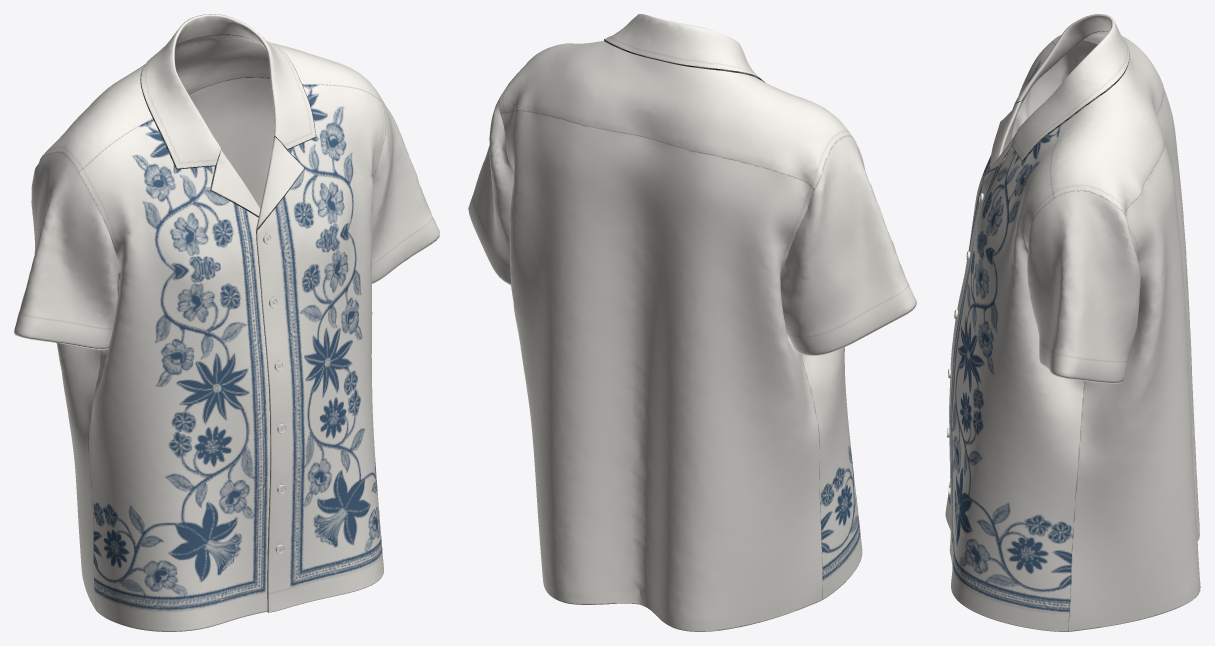
Rendered from 3d-half-sheeve-shirt-blue.glb.
The picture shows the model from 3 angles, left to right: view 1: azimuth 30°, elevation 25°; view 2: azimuth 150°, elevation 25°; view 3: azimuth 270°, elevation 25°; orthographic projection. The views are drawn at different scales.
Visible parts, largest first — view 1: SH DOBY STP FR, SH DOBY STP FR_1, SH DOBY STP SLV_1, SH DOBY STP BK, SH DOBY STP COL_1, SH DOBY STP YK, SH DOBY STP SLV, SH DOBY STP YK_1, SH DOBY STP FR_5, SH DOBY STP FR_4; view 2: SH DOBY STP BK, SH DOBY STP YK, SH DOBY STP SLV_1, SH DOBY STP FR, SH DOBY STP COL_1, SH DOBY STP SLV; view 3: SH DOBY STP FR_1, SH DOBY STP BK, SH DOBY STP SLV, SH DOBY STP YK, SH DOBY STP COL_1, SH DOBY STP SLV_1, SH DOBY STP FR, SH DOBY STP FR_4.
Boxes of the visible parts, left/top/right/bottom form: SH DOBY STP FR: left=79, top=119, right=270, bottom=631; SH DOBY STP FR_1: left=256, top=84, right=385, bottom=612; SH DOBY STP SLV_1: left=14, top=152, right=120, bottom=349; SH DOBY STP BK: left=56, top=77, right=274, bottom=610; SH DOBY STP COL_1: left=140, top=14, right=315, bottom=169; SH DOBY STP YK: left=40, top=43, right=381, bottom=171; SH DOBY STP SLV: left=371, top=92, right=439, bottom=283; SH DOBY STP YK_1: left=175, top=34, right=270, bottom=94; SH DOBY STP FR_5: left=256, top=136, right=304, bottom=612; SH DOBY STP FR_4: left=211, top=148, right=260, bottom=216; SH DOBY STP BK: left=501, top=110, right=822, bottom=631; SH DOBY STP YK: left=499, top=41, right=852, bottom=188; SH DOBY STP SLV_1: left=780, top=136, right=916, bottom=355; SH DOBY STP FR: left=802, top=135, right=862, bottom=599; SH DOBY STP COL_1: left=604, top=14, right=764, bottom=82; SH DOBY STP SLV: left=468, top=96, right=514, bottom=285; SH DOBY STP FR_1: left=949, top=126, right=1084, bottom=631; SH DOBY STP BK: left=1068, top=88, right=1200, bottom=631; SH DOBY STP SLV: left=1027, top=190, right=1140, bottom=383; SH DOBY STP YK: left=1050, top=35, right=1164, bottom=215; SH DOBY STP COL_1: left=1012, top=14, right=1129, bottom=161; SH DOBY STP SLV_1: left=1028, top=40, right=1097, bottom=116; SH DOBY STP FR: left=945, top=41, right=1055, bottom=529; SH DOBY STP FR_4: left=989, top=57, right=1061, bottom=168.
Size of the model in its own units: 0.6097 by 0.7519 by 0.3183.
2 materials, 2 textured.
